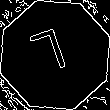L_S: (32, 26, 78, 84)
